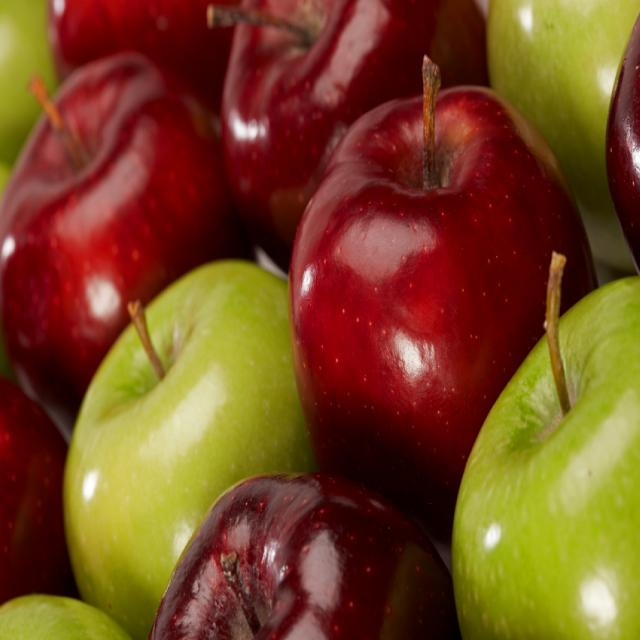Apple: (288, 89, 598, 549), (62, 259, 321, 634), (2, 50, 255, 420), (451, 273, 640, 638)
